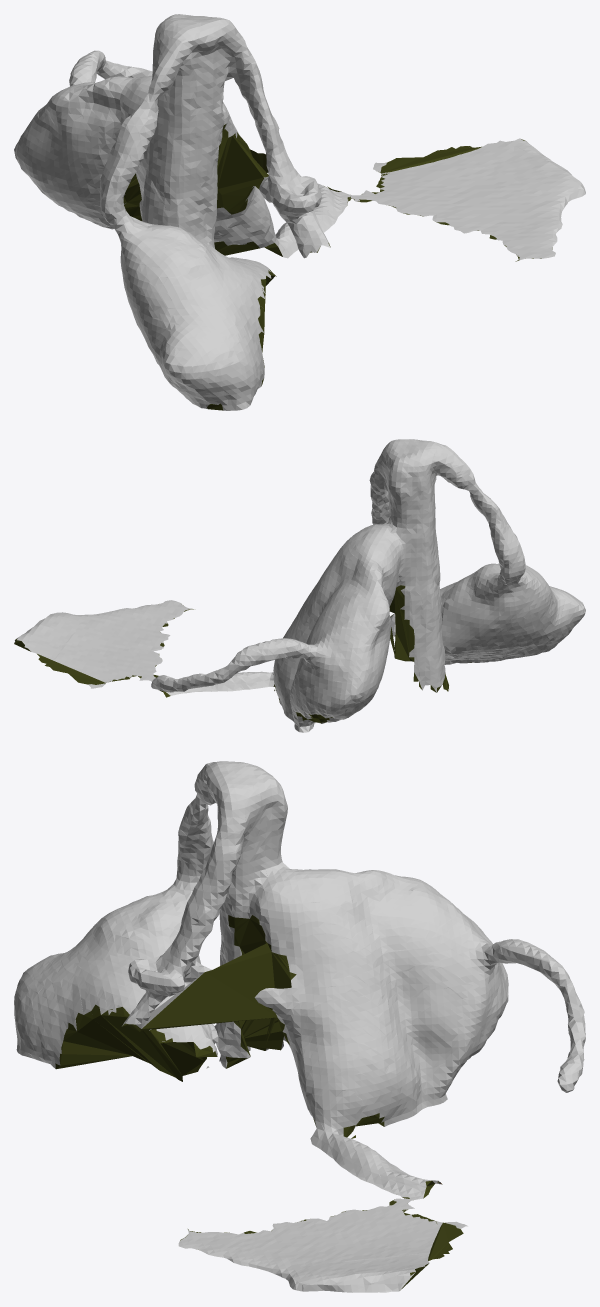
Rendered from colorscan1-twinning.obj.
3 views of the same model, one above another, from view 1: azimuth 30°, elevation 25°; view 2: azimuth 150°, elevation 25°; view 3: azimuth 270°, elevation 25° (orthographic). The views are drawn at different scales.
Parts seen in each view (by area): view 1: twinning; view 2: twinning; view 3: twinning.
Boxes of the visible parts, left/top/right/bottom form: twinning: left=14, top=14, right=585, bottom=410; twinning: left=14, top=439, right=585, bottom=732; twinning: left=14, top=761, right=585, bottom=1292.
Bounding box in the file's own units: 15.39 × 8.03 × 13.48.
